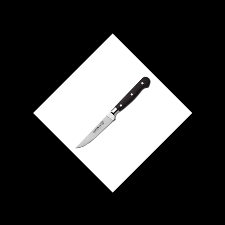k1: (75, 105, 118, 150)
